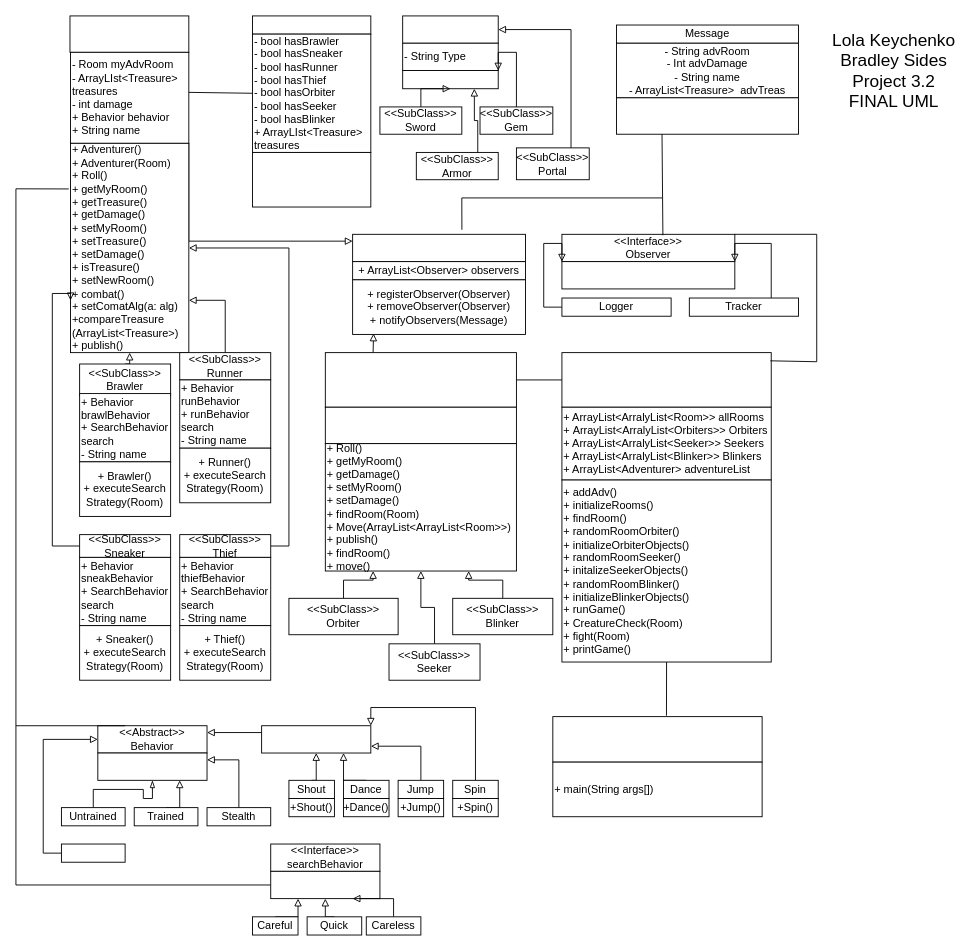
The diagram is 978 pixels wide and 951 high, and some of its shapes have lost their labels. Each missing label, with the centre of its shape:
"# Room myRoom # int damage" belongs at (420,425).
"+ [getters and setters for all vars]" belongs at (707,115).
"+ [getters for all variables] + [setters for all variables]" belongs at (311,179).
"+ getType()" belongs at (450,79).
"+ update(Message)" belongs at (648,275).
"+fight(Room)" belongs at (152,766).
"+search(Room)" belongs at (325,884).
"<<Abstract>> celebrationDectorator" belongs at (316,739).
"<<SuperClass>> Adventurer" belongs at (129,33).
"<<SuperClass>> Creature" belongs at (420,379).
"<<SuperClass>> Treasure" belongs at (450,29).
"Expert" belongs at (93,852).
"GameEngine" belongs at (666,379).
"Main" belongs at (657,739).
"Room" belongs at (311,24).
"Subject" belongs at (439,247).
